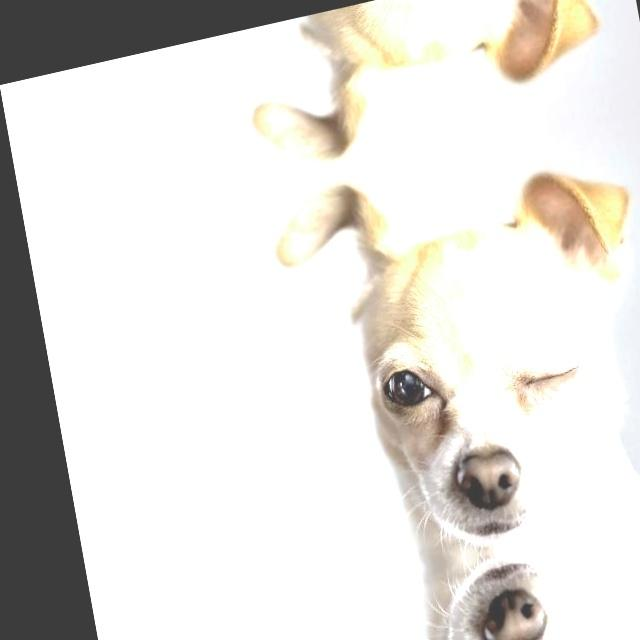dog: (245, 105, 640, 588), (217, 0, 640, 187), (316, 503, 640, 640)
